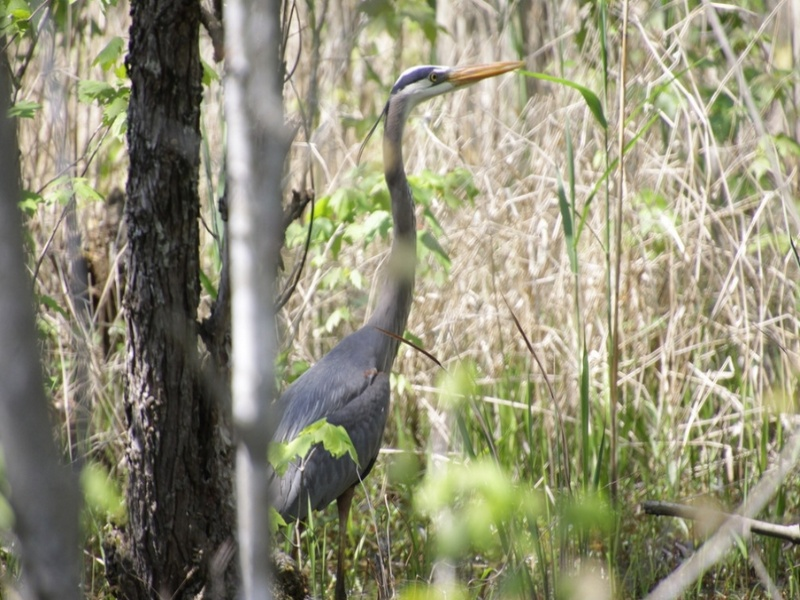heron: (264, 50, 527, 581)
